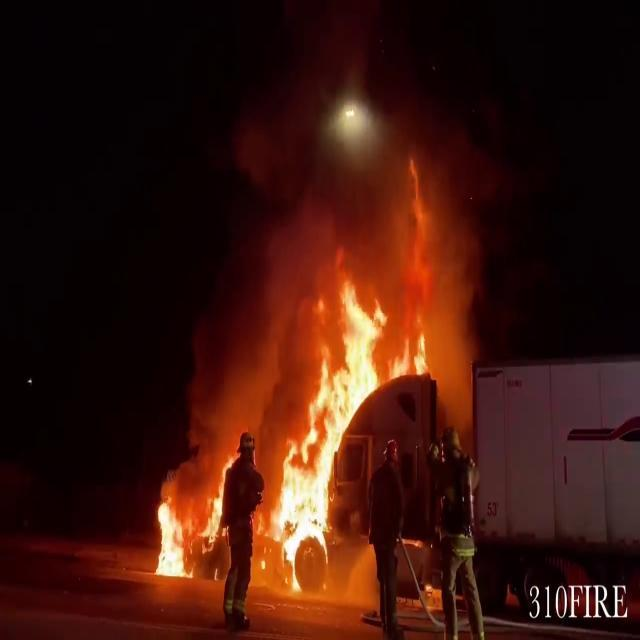Fire: (264, 272, 392, 588), (147, 456, 230, 580)
Smoke: (208, 91, 484, 411)
